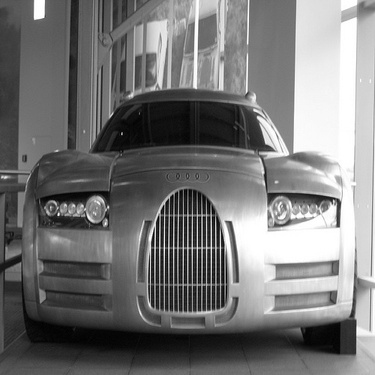car: (5, 75, 357, 342)
